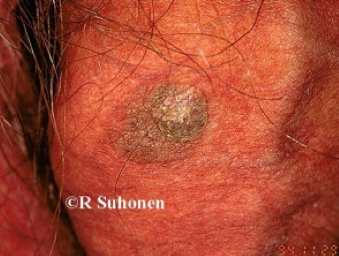seborrheic keratosis: (83, 52, 234, 179)
